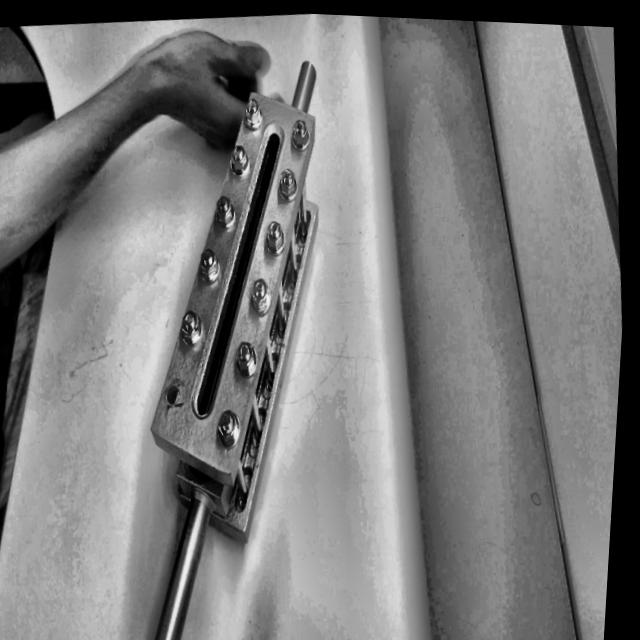ShuiWeiQi_11: (87, 77, 398, 637)
